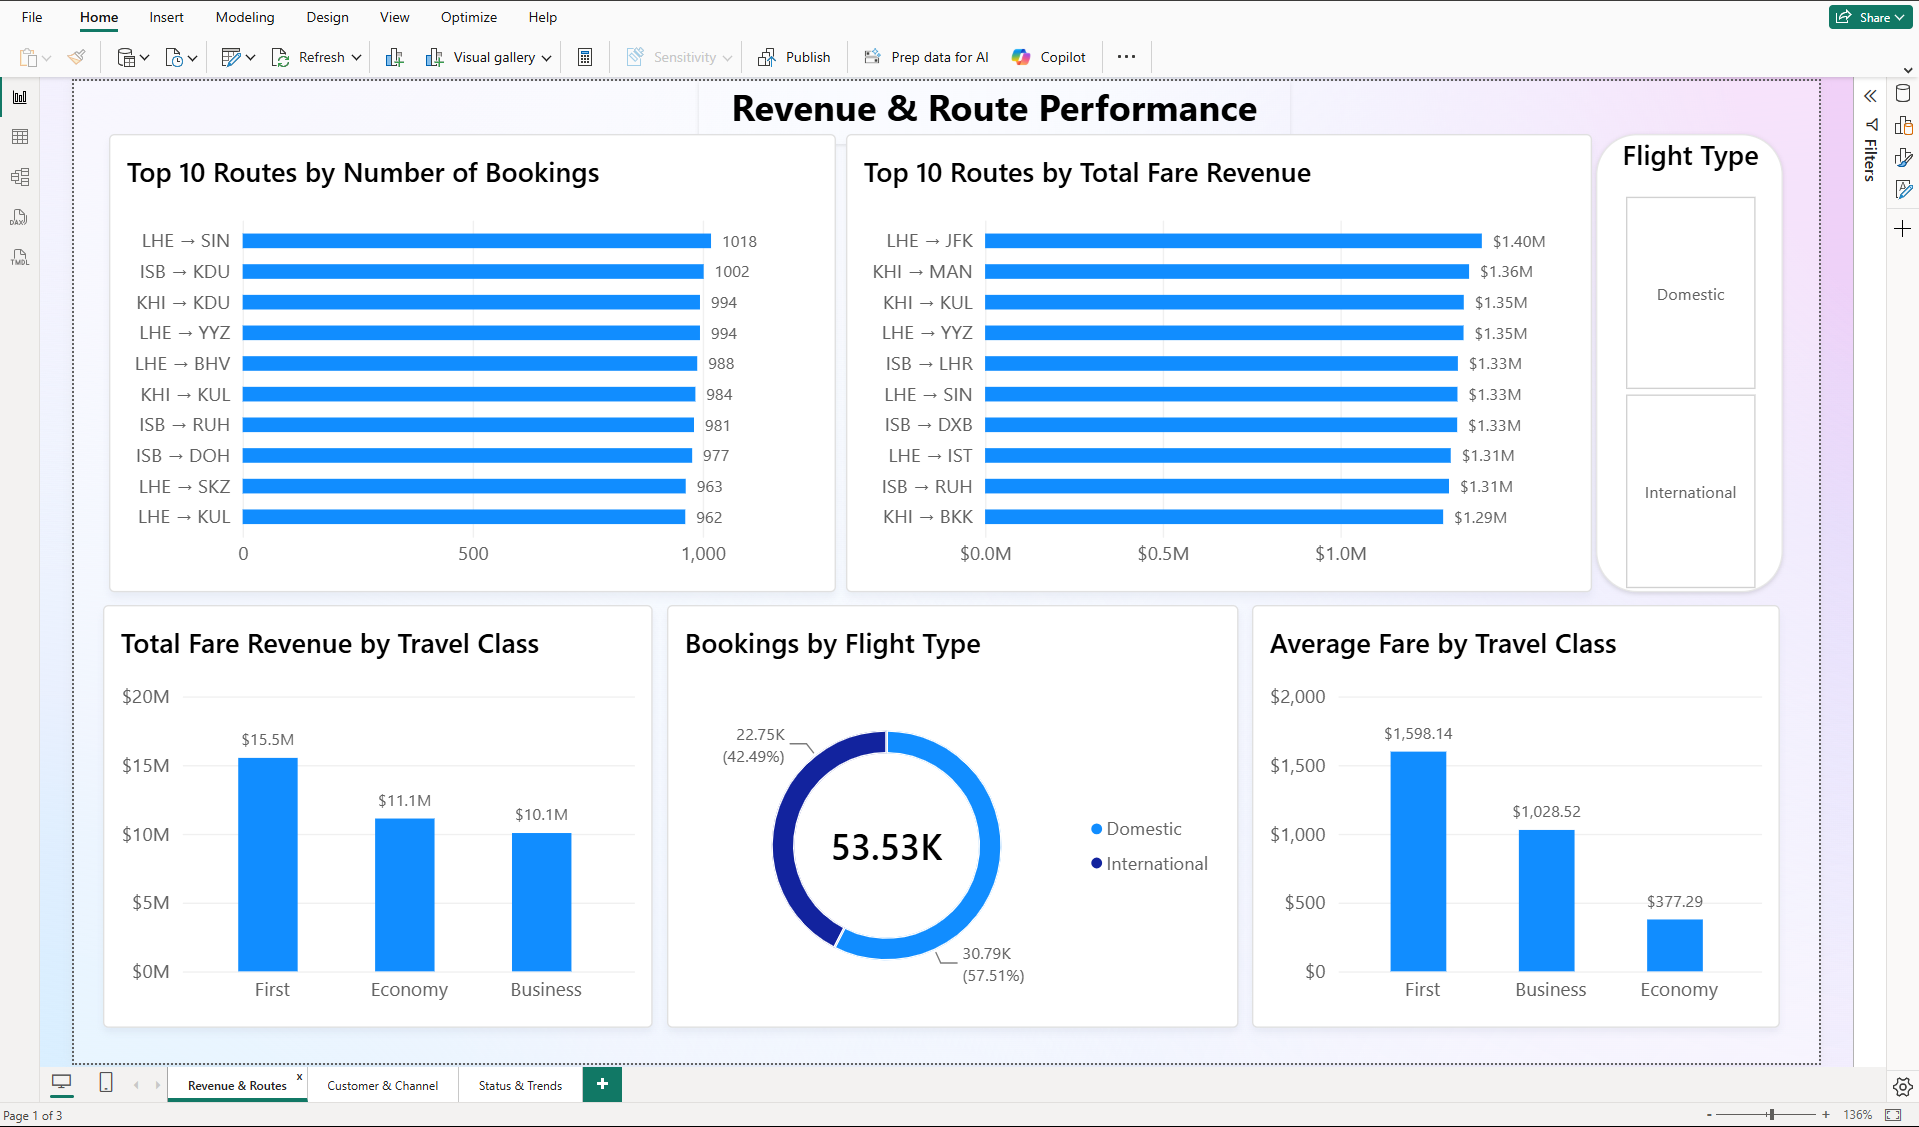

The dashboard page shown, as its layout file describes it:
{"tool":"powerbi","page":{"name":"Revenue & Routes","canvas":[1280,720],"ordinal":0},"visuals":[{"type":"textbox","box":[457.9,0,433.4,46.1],"z":0},{"type":"clusteredBarChart","title":"Top 10 Routes by Number of Bookings","fields":{"Category":["Fact_TicketSales.Route"],"Y":["CountNonNull(Fact_TicketSales.TicketID)"]},"box":[25.9,38.9,532.8,335.5],"z":1000},{"type":"clusteredBarChart","title":"Top 10 Routes by Total Fare Revenue","fields":{"Category":["Fact_TicketSales.Route"],"Y":["Sum(Fact_TicketSales.FareAmount)"]},"box":[565.9,38.9,547.2,335.5],"z":2000},{"type":"clusteredColumnChart","title":"Total Fare Revenue by Travel Class","fields":{"Category":["Fact_TicketSales.TravelClass"],"Y":["Sum(Fact_TicketSales.FareAmount)"]},"box":[21.6,384.5,403.2,309.6],"z":3000},{"type":"donutChart","title":"Bookings by Flight Type","fields":{"Category":["Fact_TicketSales.FlightType"],"Y":["CountNonNull(Fact_TicketSales.TicketID)"]},"box":[434.9,384.5,419,309.6],"z":4000},{"type":"clusteredColumnChart","title":"Average Fare by Travel Class","fields":{"Category":["Fact_TicketSales.TravelClass"],"Y":["Avg(Fact_TicketSales.FareAmount)"]},"box":[864,384.5,387.4,309.6],"z":5000},{"type":"slicer","title":"Flight Type","fields":{"Values":["Fact_TicketSales.FlightType"]},"box":[1116,38.9,136.8,335.5],"z":6000}]}

Visuals, with their boxes on the page's 1280x720 design canvas (x1, y1, x2, y2). These are canvas units, not pixel positions in the 1919x1127 screenshot, which may show the page scaled, cropped or inside an application window:
textbox: [left=458, top=0, right=891, bottom=46]
"Top 10 Routes by Number of Bookings" clusteredBarChart: [left=26, top=39, right=559, bottom=374]
"Top 10 Routes by Total Fare Revenue" clusteredBarChart: [left=566, top=39, right=1113, bottom=374]
"Total Fare Revenue by Travel Class" clusteredColumnChart: [left=22, top=384, right=425, bottom=694]
"Bookings by Flight Type" donutChart: [left=435, top=384, right=854, bottom=694]
"Average Fare by Travel Class" clusteredColumnChart: [left=864, top=384, right=1251, bottom=694]
"Flight Type" slicer: [left=1116, top=39, right=1253, bottom=374]
